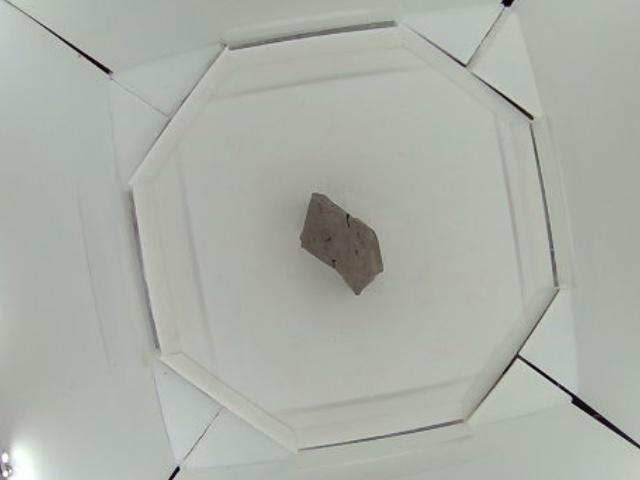China: (301, 192, 386, 296)
